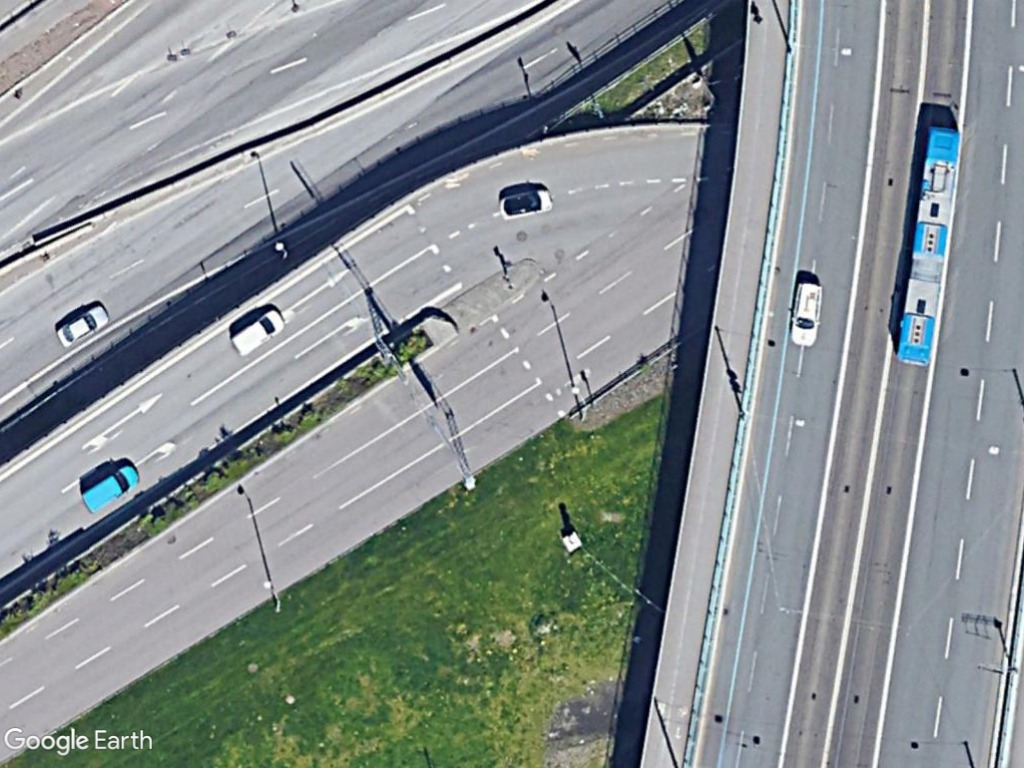bus: (889, 120, 962, 376)
car: (50, 295, 112, 353), (784, 275, 831, 350), (490, 183, 555, 222)
van: (77, 454, 147, 518), (225, 303, 287, 363)
